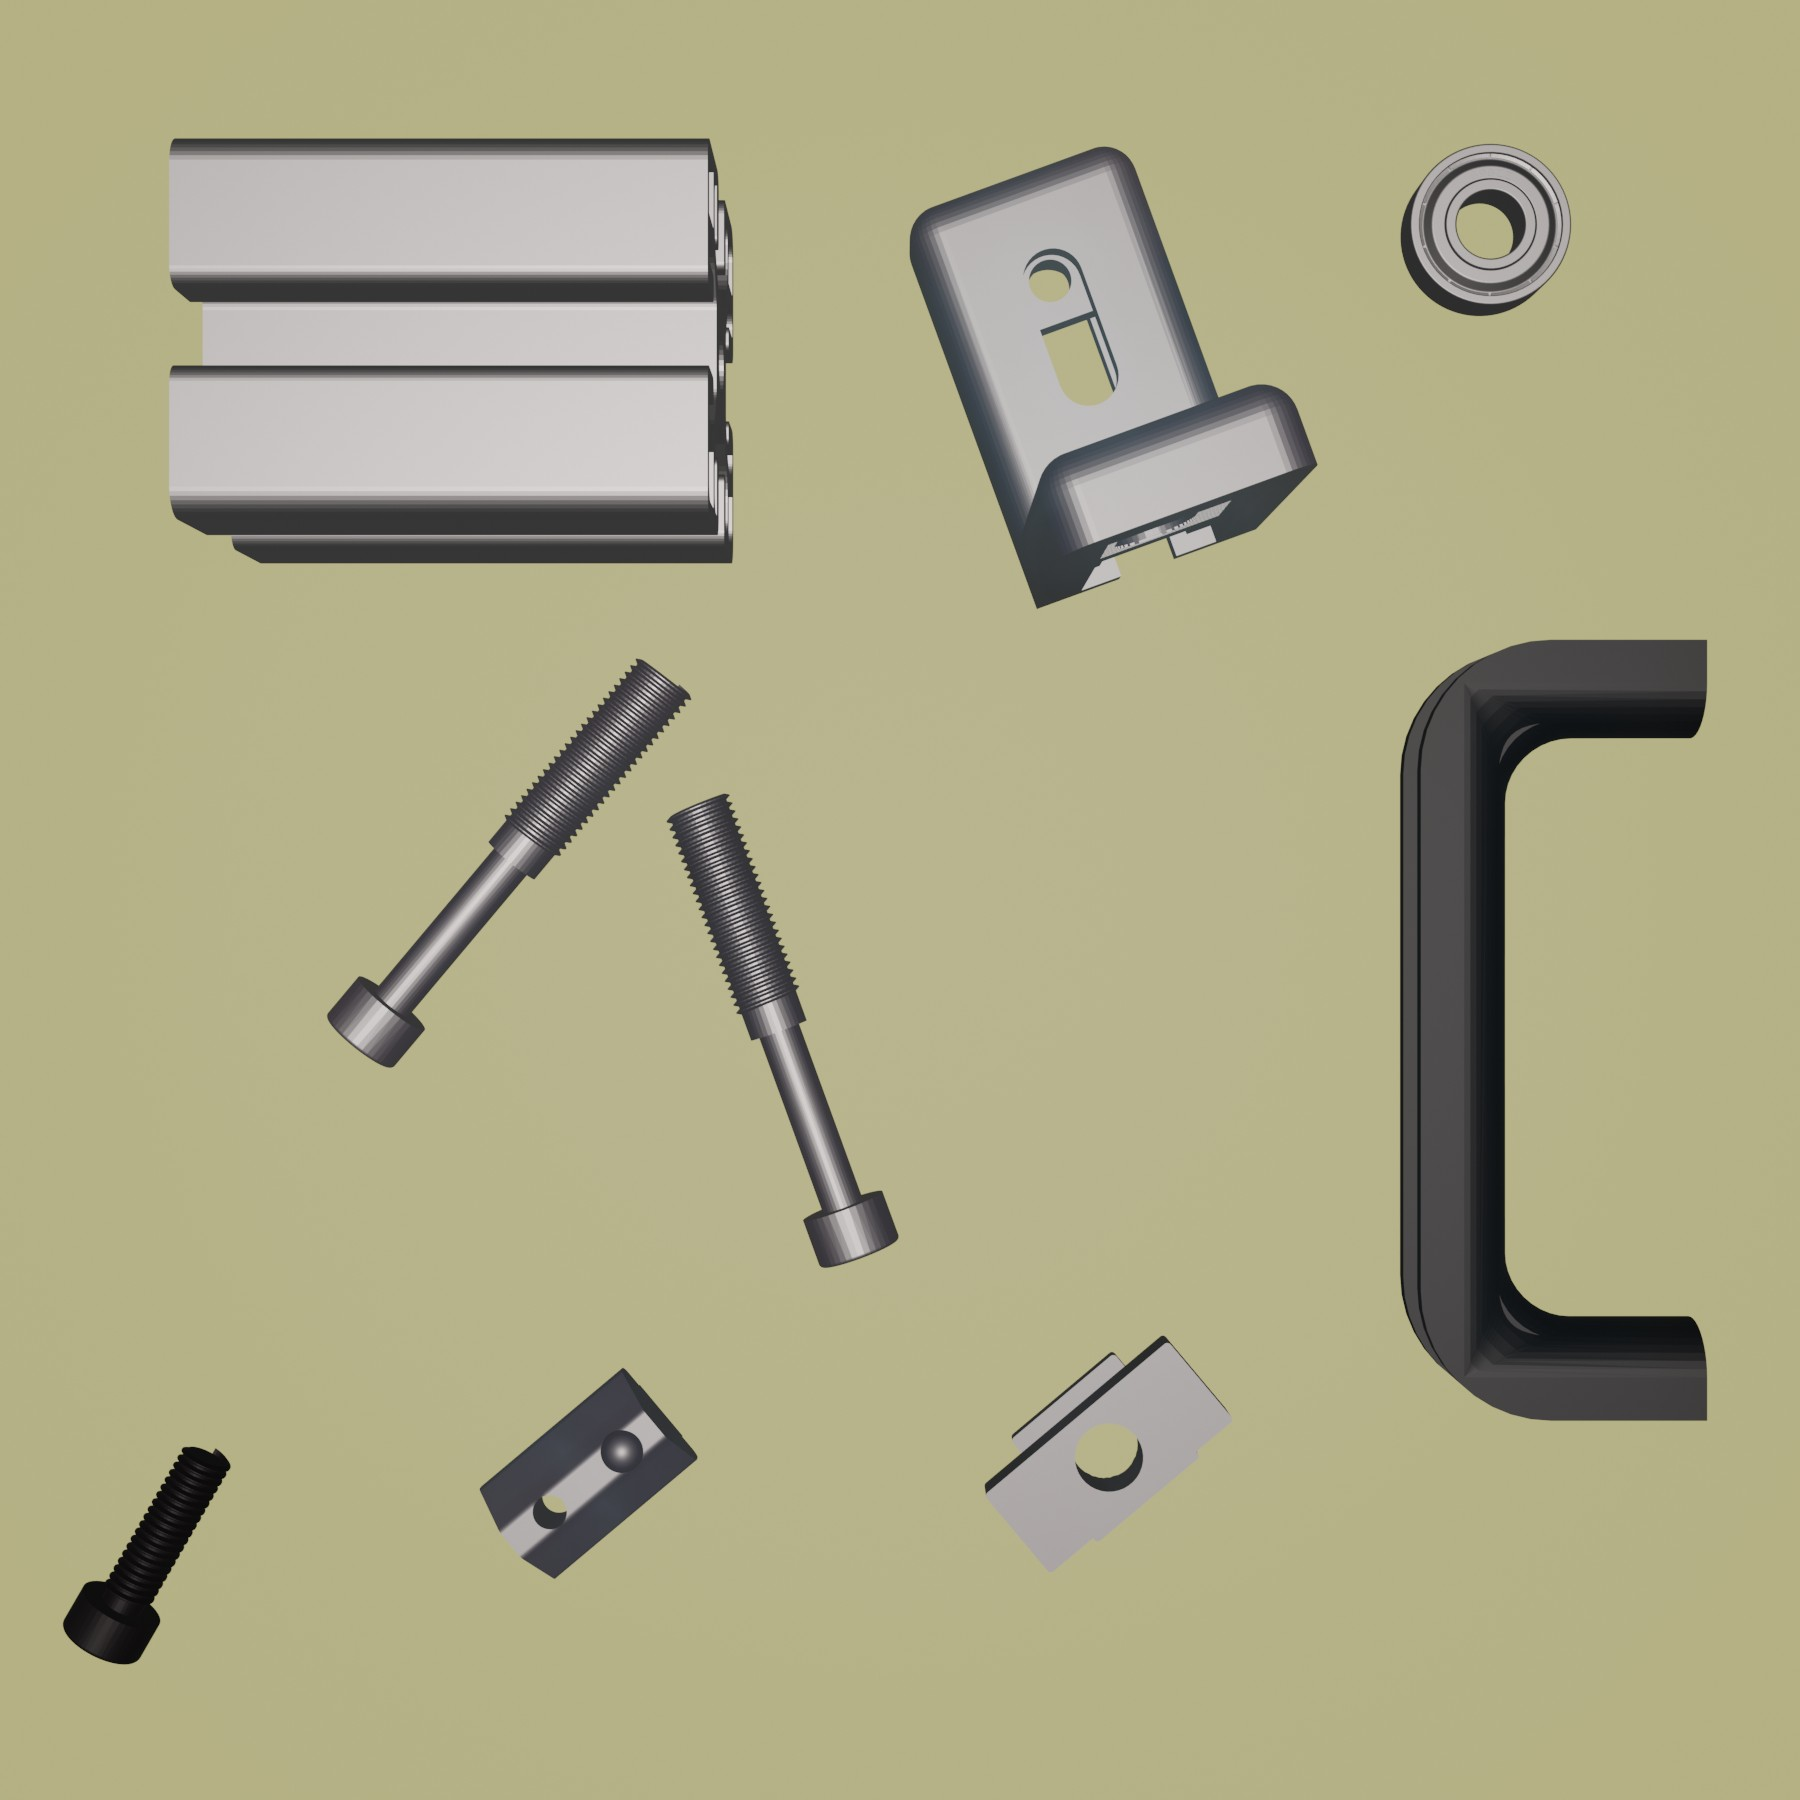Aluminium Extension: (162, 130, 738, 569)
Ball Bearing: (1399, 142, 1576, 320)
Multiwinkel: (905, 142, 1320, 612)
Pull Handle: (1391, 631, 1713, 1426)
Shoulder Socket Head Cap Screw: (325, 654, 694, 1070), (664, 790, 902, 1269)
Socket Head Cap Screw: (61, 1439, 232, 1666)
T Nut Square: (981, 1334, 1238, 1577)
T Spring Nut: (476, 1365, 701, 1582)
